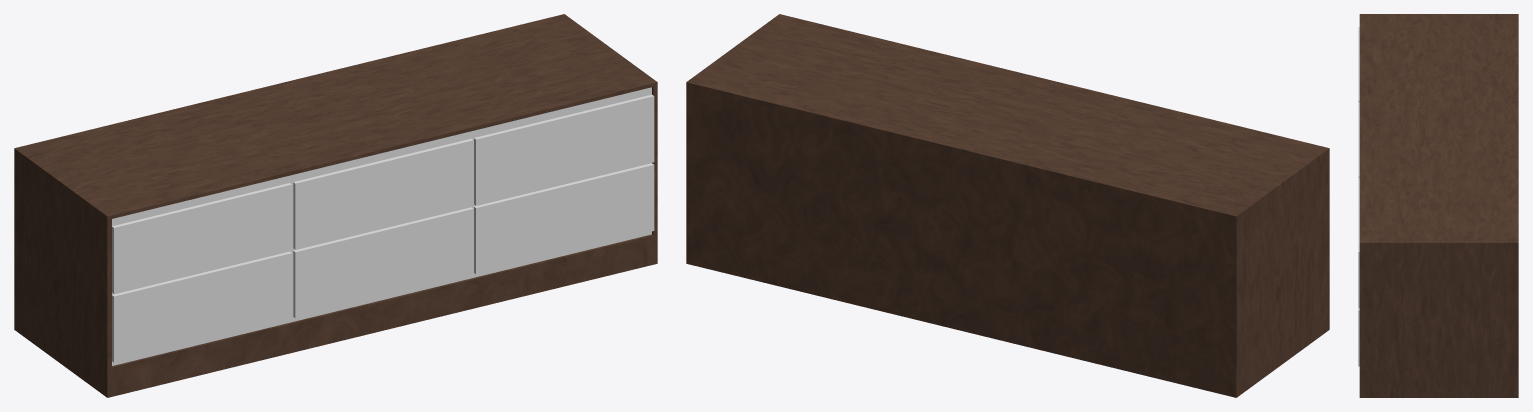
File: Shelf3.fbx
The picture shows the model from 3 angles, left to right: view 1: azimuth 30°, elevation 25°; view 2: azimuth 150°, elevation 25°; view 3: azimuth 270°, elevation 25°; orthographic projection. The views are drawn at different scales.
Parts seen in each view (by area): view 1: Shelf3; view 2: Shelf3; view 3: Shelf3.
Boxes of the visible parts, x1,y1,x2,y2 form: Shelf3: [14, 14, 657, 397]; Shelf3: [686, 14, 1329, 397]; Shelf3: [1358, 14, 1518, 397].
Bounding box in the file's own units: 3.15 × 0.9912 × 0.9312.
